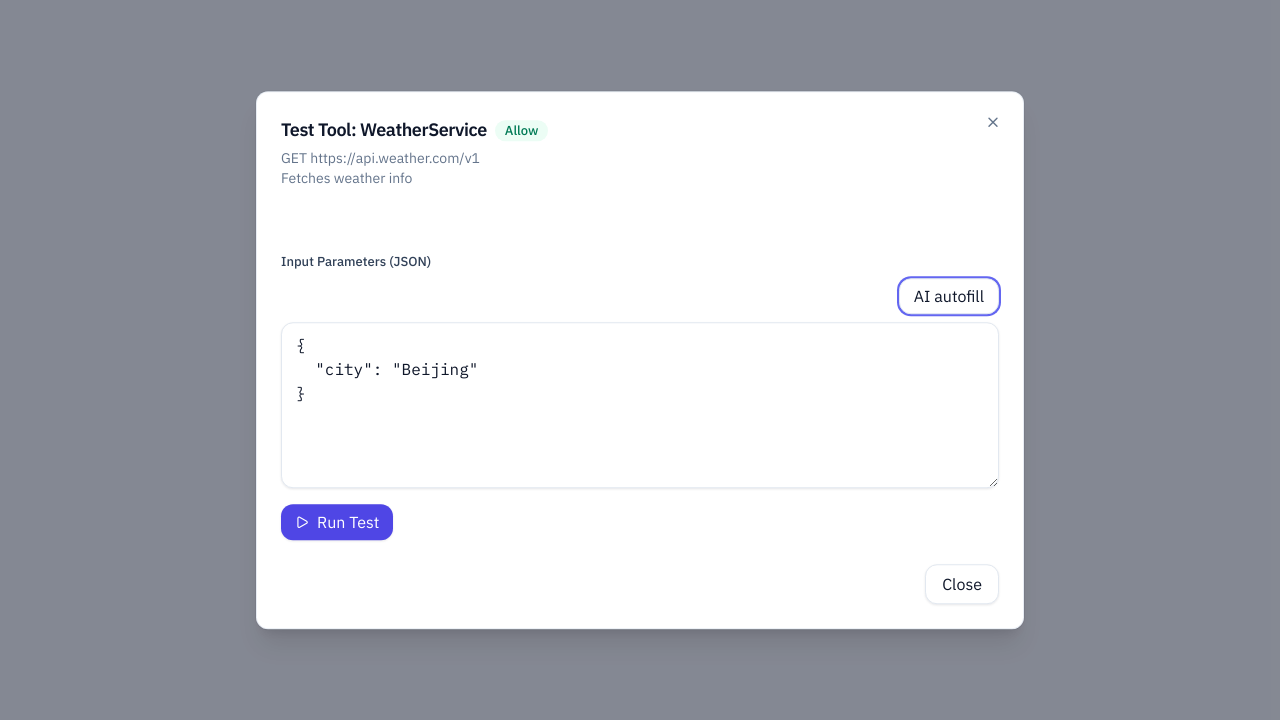
Test: ToolTestPanel › renders tool info, prefilled schema parameters, and runs test successfully
Check: the heading "Test Tool: WeatherService" is shown, box [281, 116, 487, 144]
Check: the text "GET https://api.weather.com/v1 Fetches weather info" is shown, box [281, 149, 480, 187]
Click the button "Run Test".
click(337, 522)  # box [281, 504, 393, 540]
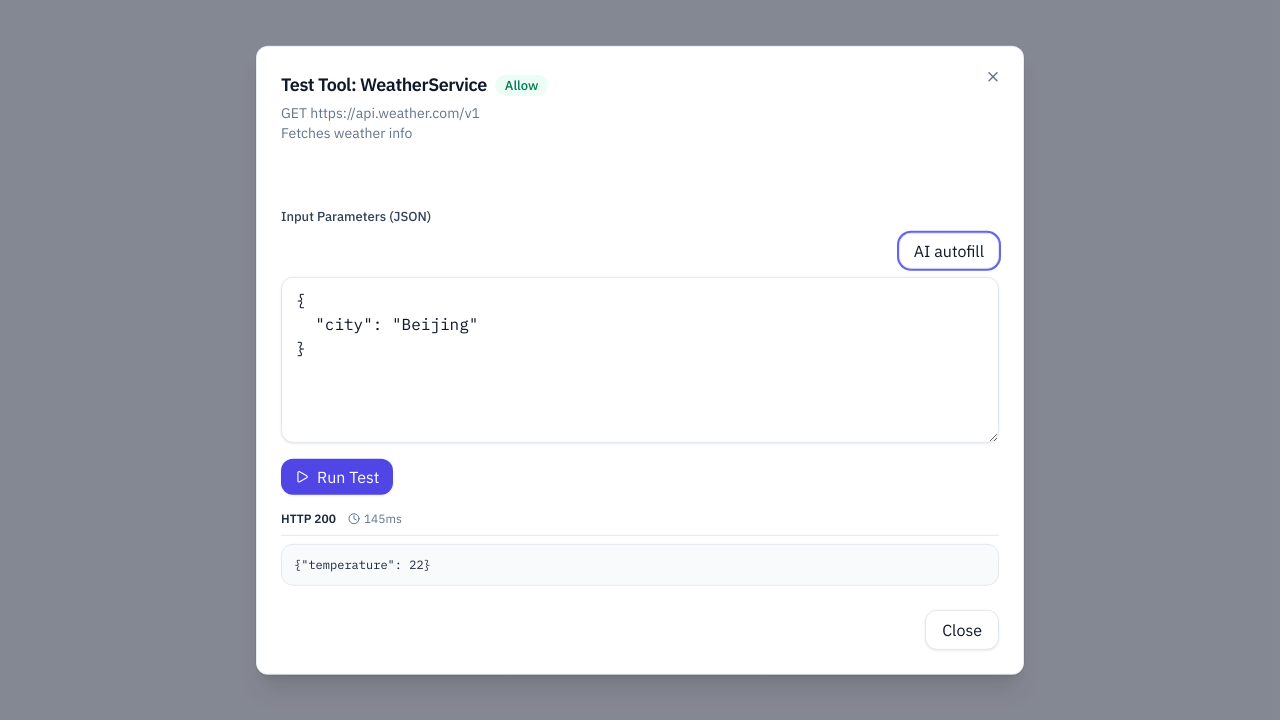
Check: the text "HTTP 200" is shown, box [281, 510, 336, 526]
Check: the text "145ms" is shown, box [348, 510, 402, 526]
Check: the text "{\"temperature\": 22}" is shown, box [281, 543, 999, 585]
